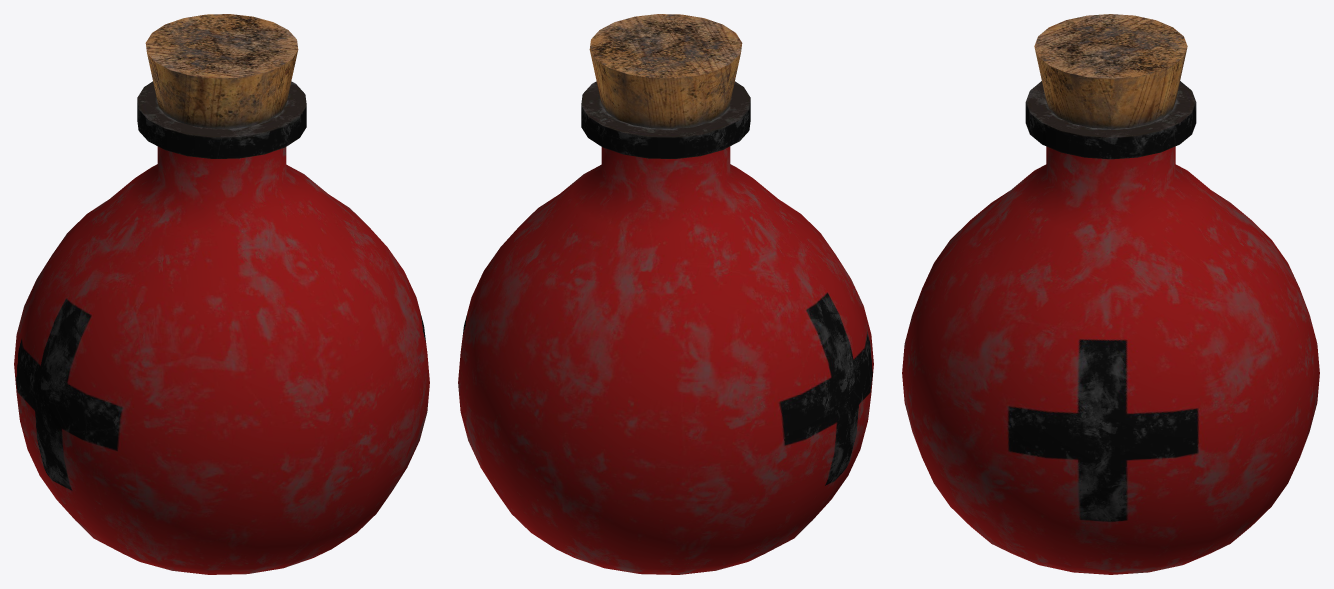
Rendered from HealthPotion.fbx.
The picture shows the model from 3 angles, left to right: view 1: azimuth 30°, elevation 25°; view 2: azimuth 150°, elevation 25°; view 3: azimuth 270°, elevation 25°; orthographic projection.
Parts seen in each view (by area): view 1: pSphere1; view 2: pSphere1; view 3: pSphere1.
Part boxes in pixels (x1,y1,x2,y2): pSphere1: (14,14,429,574); pSphere1: (458,14,873,574); pSphere1: (902,14,1319,574).
Bounding box in the file's own units: 205 × 258 × 205.
